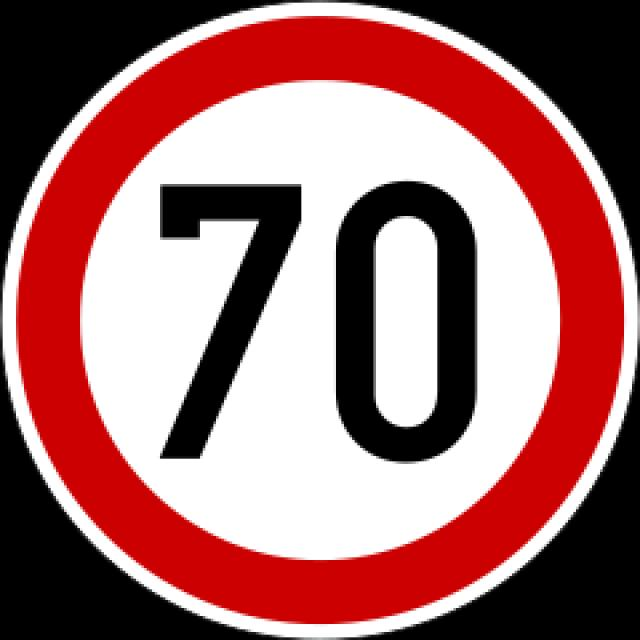Speed Limit -70-: (116, 136, 486, 499)
